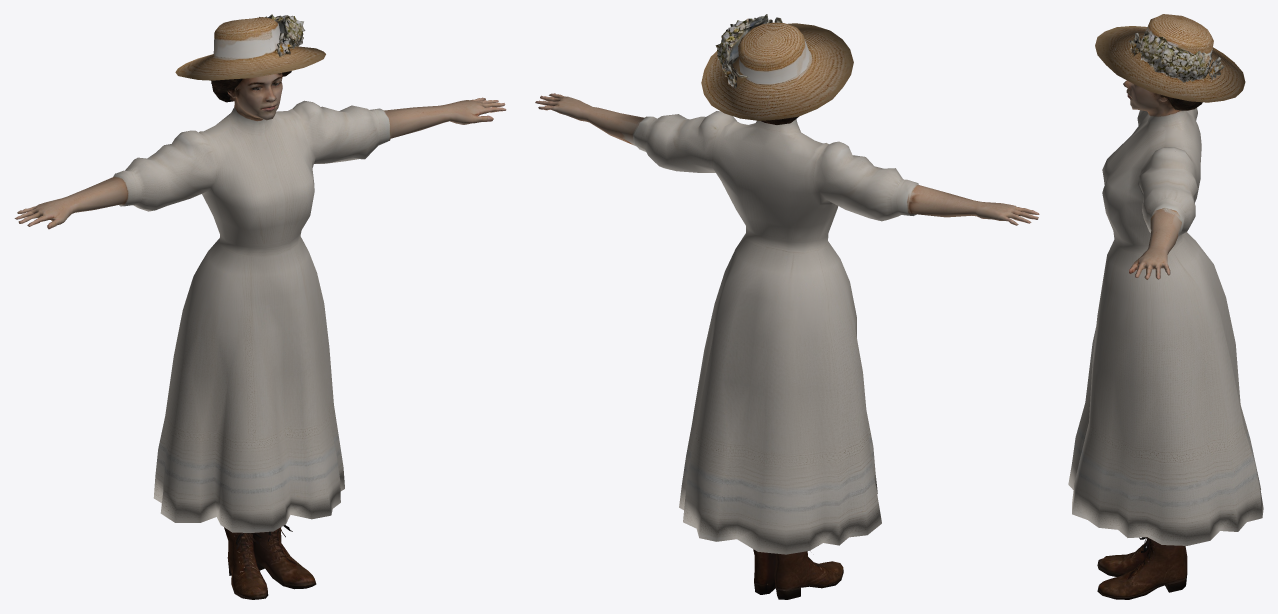
The model's file is young summer dress woman.fbx.
3 renders of one model, left to right at view 1: azimuth 30°, elevation 25°; view 2: azimuth 150°, elevation 25°; view 3: azimuth 270°, elevation 25°, orthographic. The views are drawn at different scales.
Parts seen in each view (by area): view 1: tripo_node_be3b855d; view 2: tripo_node_be3b855d; view 3: tripo_node_be3b855d.
Part boxes in pixels (box(x1,y1,x2,y2)): tripo_node_be3b855d: box(14, 14, 506, 599); tripo_node_be3b855d: box(535, 14, 1039, 599); tripo_node_be3b855d: box(1068, 14, 1263, 599).
Bounding box in the file's own units: 92.38 × 31.45 × 99.8.
1 material, 1 textured.
